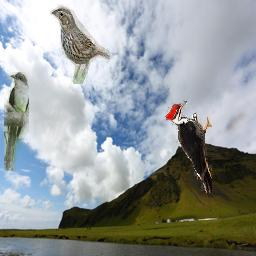Cuckoo: (5, 73, 30, 172)
Sparrow: (50, 4, 110, 84)
Woodpecker: (166, 99, 213, 194)
